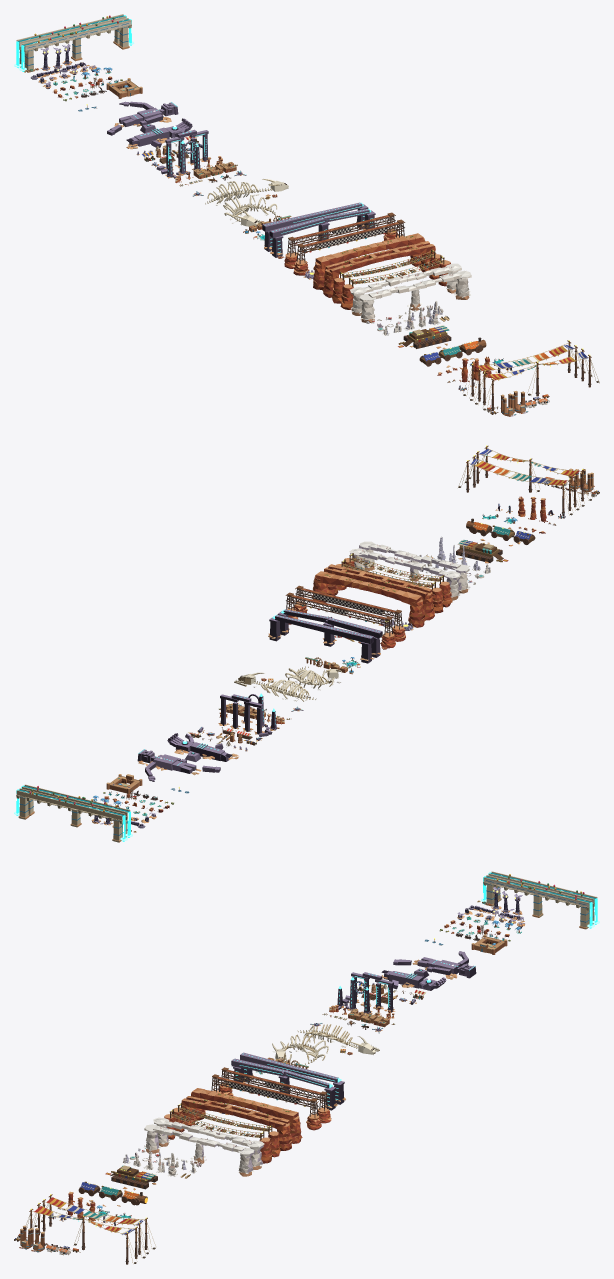
Rendered from set_kessra.glb.
The picture shows the model from 3 angles, top to bottom: view 1: azimuth 30°, elevation 25°; view 2: azimuth 150°, elevation 25°; view 3: azimuth 330°, elevation 25°; orthographic projection.
Parts seen in each view (by area): view 1: kessra_aqueduct_1.001, kessra_rock_bridge_1.001, kessra_salt_arch_1.001, kessra_rock_bridge_0.001, kessra_race_gantry_0.001, kessra_race_gantry_1.001, kessra_obelisk_span_1.001, kessra_salt_arch_0.001, kessra_colossus_0.001, kessra_obelisk_span_0.001, kessra_rope_bridge_0.001, kessra_colossus_1.001 (+11 smaller); view 2: kessra_rock_bridge_0.001, kessra_aqueduct_0.001, kessra_rock_bridge_1.001, kessra_race_gantry_1.001, kessra_salt_arch_1.001, kessra_race_gantry_0.001, kessra_obelisk_span_0.001, kessra_obelisk_span_1.001, kessra_salt_arch_0.001, kessra_colossus_0.001, kessra_aqueduct_1.001, kessra_colossus_1.001 (+10 smaller); view 3: kessra_aqueduct_1.001, kessra_rock_bridge_1.001, kessra_salt_arch_1.001, kessra_rock_bridge_0.001, kessra_race_gantry_0.001, kessra_race_gantry_1.001, kessra_obelisk_span_1.001, kessra_salt_arch_0.001, kessra_obelisk_span_0.001, kessra_colossus_0.001, kessra_rope_bridge_0.001, kessra_rope_bridge_1.001 (+11 smaller).
Boxes of the visible parts, x1,y1,x2,y2 form: kessra_aqueduct_1.001: (19,18,134,72); kessra_rock_bridge_1.001: (322,241,436,297); kessra_salt_arch_1.001: (359,270,471,323); kessra_rock_bridge_0.001: (313,233,425,289); kessra_race_gantry_0.001: (284,212,397,268); kessra_race_gantry_1.001: (293,219,405,275); kessra_obelisk_span_1.001: (269,208,375,257); kessra_salt_arch_0.001: (350,263,461,315); kessra_colossus_0.001: (107,101,178,135); kessra_obelisk_span_0.001: (262,202,368,251); kessra_rope_bridge_0.001: (331,249,442,303); kessra_colossus_1.001: (126,118,192,149); kessra_rock_bridge_0.001: (311,571,425,627); kessra_aqueduct_0.001: (14,788,127,842); kessra_rock_bridge_1.001: (324,564,434,620); kessra_race_gantry_1.001: (294,585,405,641); kessra_salt_arch_1.001: (359,541,470,593); kessra_race_gantry_0.001: (285,592,395,648); kessra_obelisk_span_0.001: (268,614,374,663); kessra_obelisk_span_1.001: (277,609,382,657); kessra_salt_arch_0.001: (349,548,460,600); kessra_colossus_0.001: (137,749,220,781); kessra_aqueduct_1.001: (19,784,132,837); kessra_colossus_1.001: (167,733,238,761); kessra_aqueduct_1.001: (481,875,594,929); kessra_rock_bridge_1.001: (180,1096,292,1150); kessra_salt_arch_1.001: (143,1124,254,1176); kessra_rock_bridge_0.001: (190,1088,302,1143); kessra_race_gantry_0.001: (218,1067,331,1123); kessra_race_gantry_1.001: (211,1074,321,1130); kessra_obelisk_span_1.001: (231,1058,337,1110); kessra_salt_arch_0.001: (153,1117,264,1169); kessra_obelisk_span_0.001: (240,1052,345,1104); kessra_colossus_0.001: (393,951,476,979); kessra_rope_bridge_0.001: (171,1102,280,1157); kessra_rope_bridge_1.001: (164,1109,272,1163).
Bounding box in the file's own units: 101 × 30.1 × 728.
